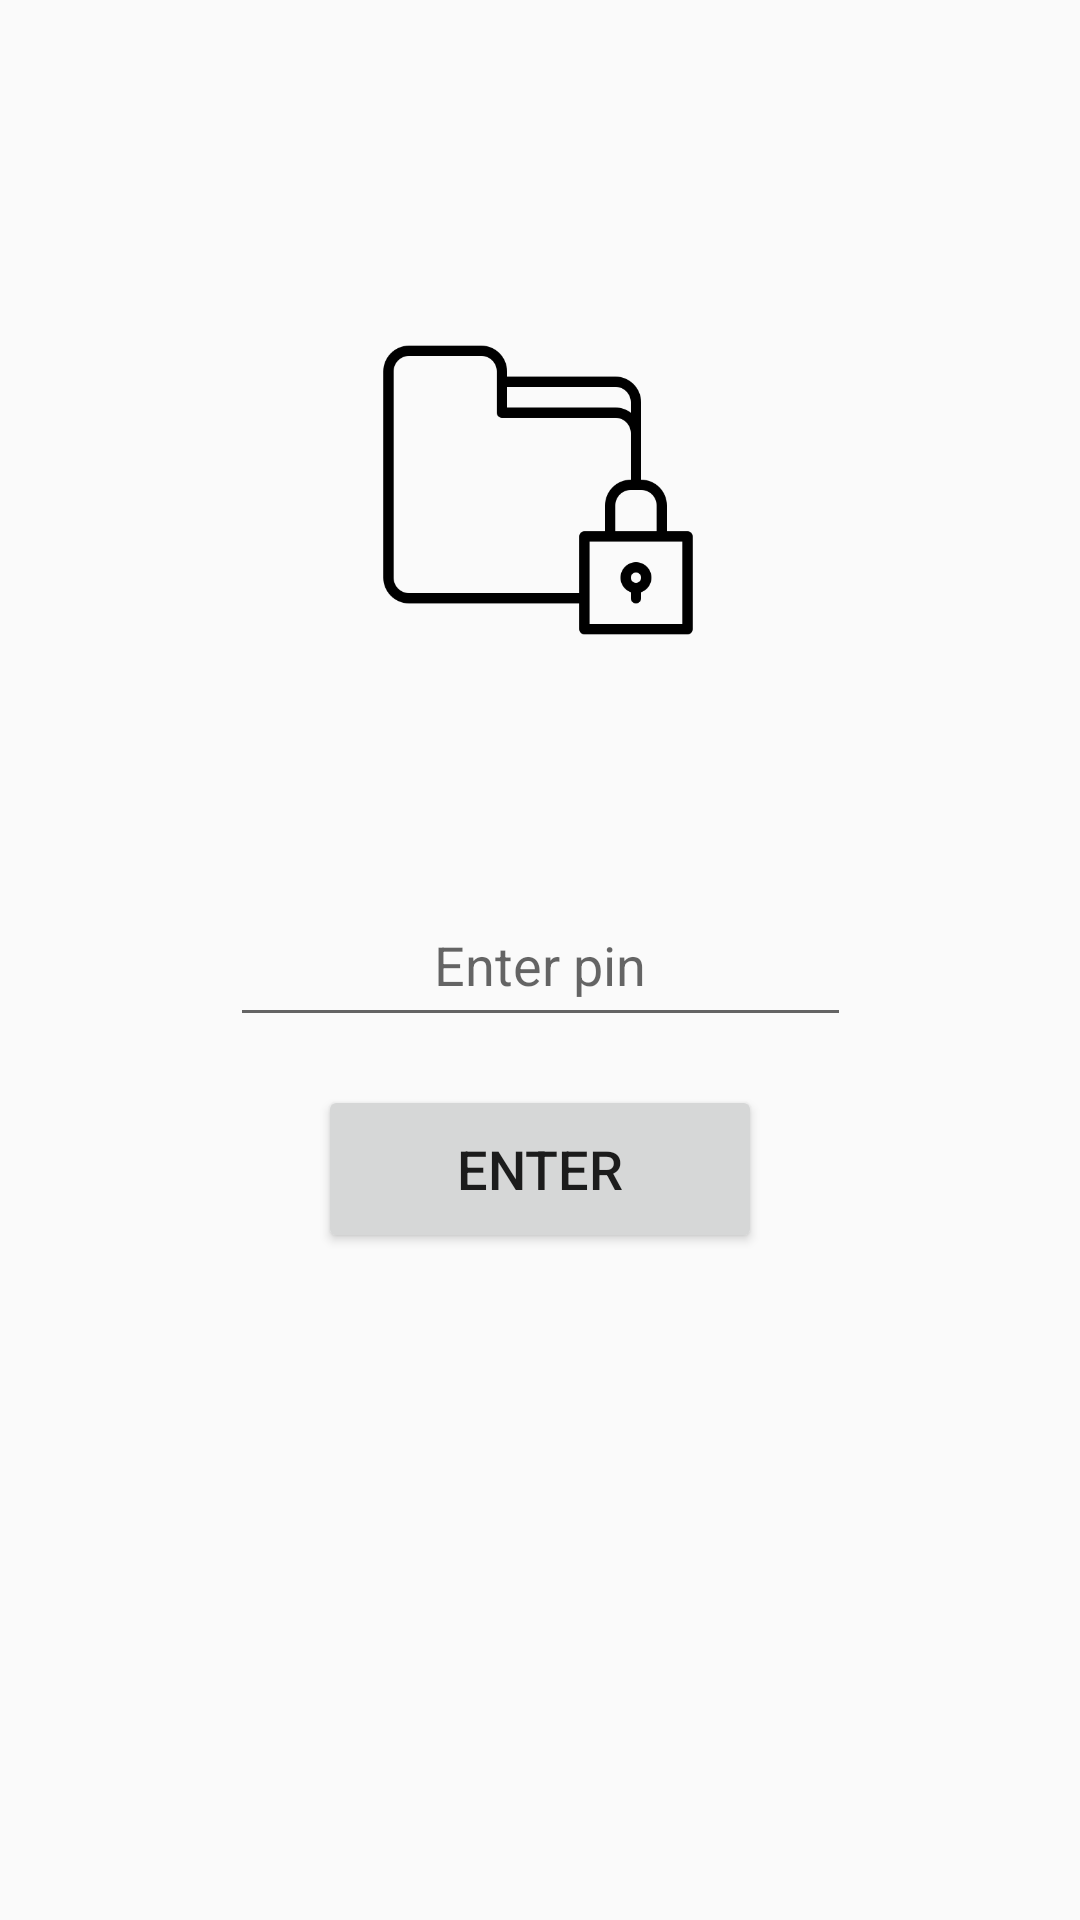

Icon click points for this 1080 x 1920 phone screenshot, format (x=x, y=y):
folder: (x=538, y=490)
